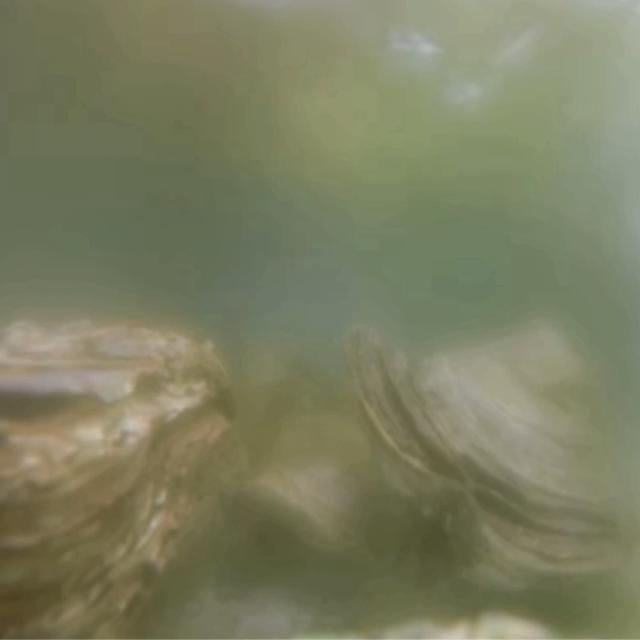Oyster-Closed: (342, 321, 640, 597), (0, 317, 252, 640)
Oyster-Indeterminate: (234, 405, 386, 564)
